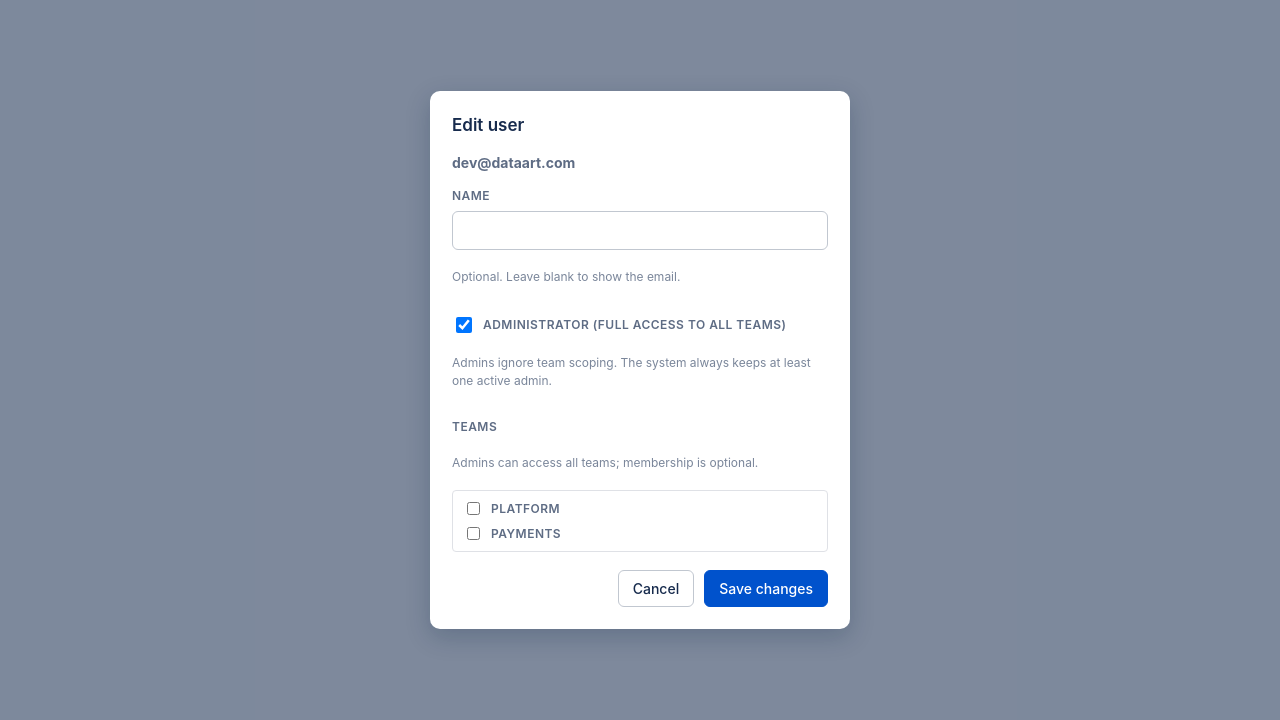
Test case: EditUserDialog › reverts the admin toggle and shows an error when demoting the last admin (409)
This screenshot has width=1280, height=720.
Click the checkbox labelled "Administrator (full access to all teams)" at {"x": 464, "y": 325}, box [456,317,472,333]
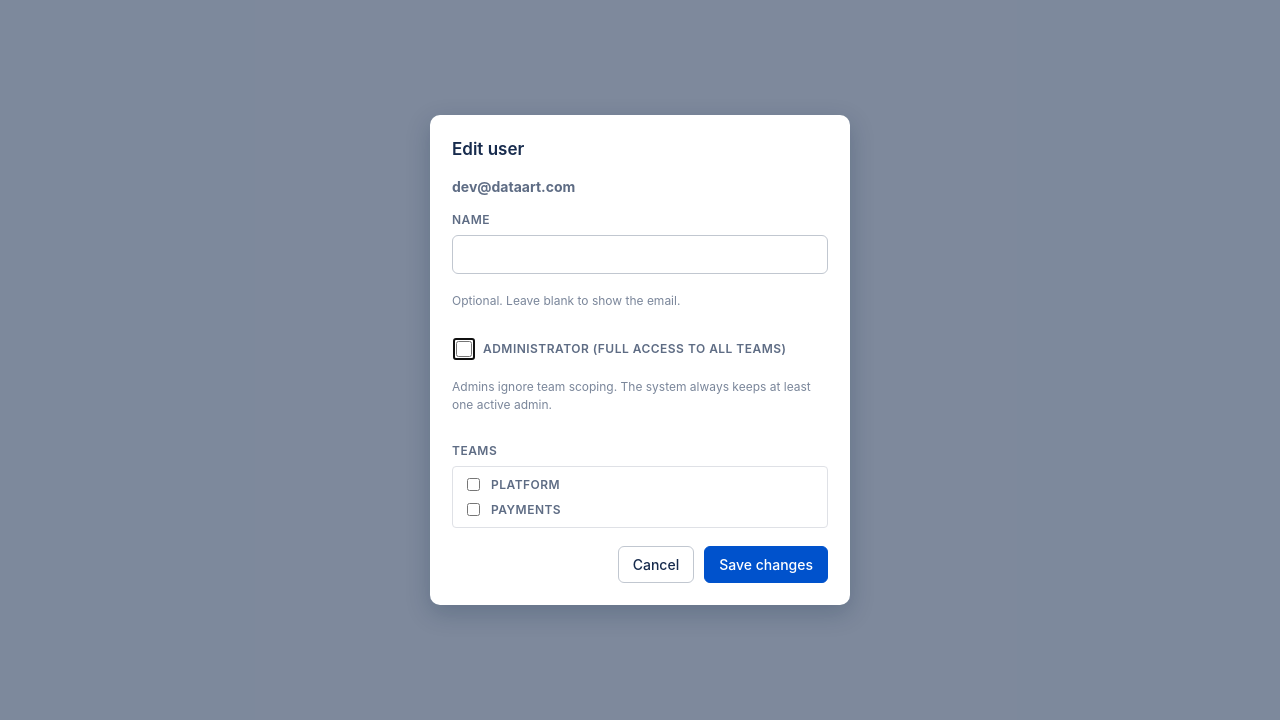
Now the checkbox labelled "Administrator (full access to all teams)" is not checked, box [456,341,472,357]
Click the button "Save changes" at {"x": 766, "y": 565}, box [704,546,828,583]
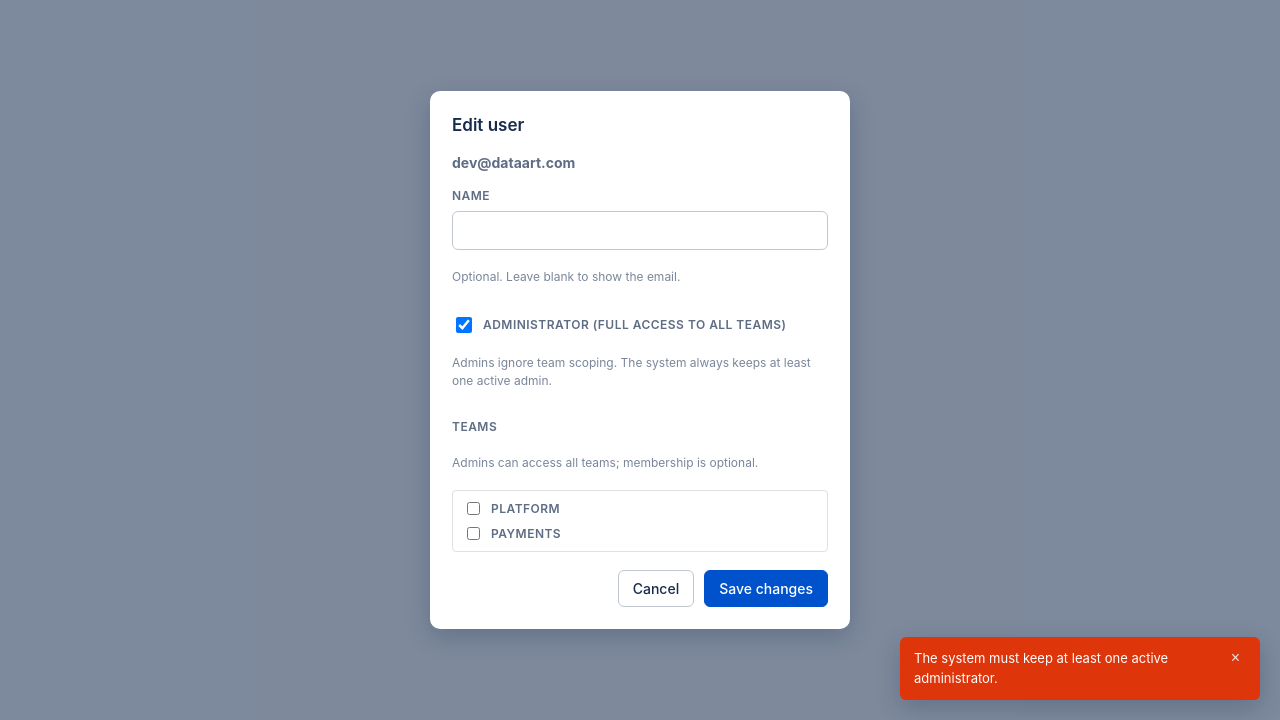
Now the checkbox labelled "Administrator (full access to all teams)" is checked, box [456,317,472,333]
Now the text "The system must keep at least one active administrator." is shown, box [914,650,1168,686]
